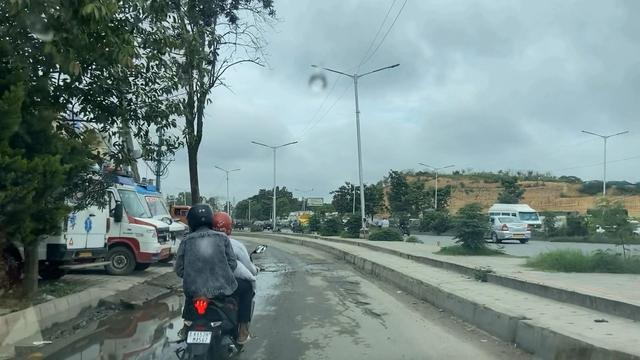LMV: (182, 206, 245, 359)
RoadDamages: (329, 276, 387, 333), (268, 257, 345, 277)
